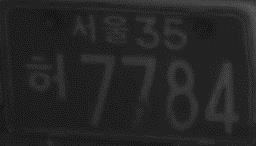3: (133, 12, 161, 51)
4: (202, 59, 243, 137)
5: (162, 14, 188, 54)
7: (117, 52, 158, 129), (77, 50, 117, 128)
8: (163, 56, 201, 133)
서울_O: (71, 12, 132, 47)
허: (23, 52, 68, 102)
